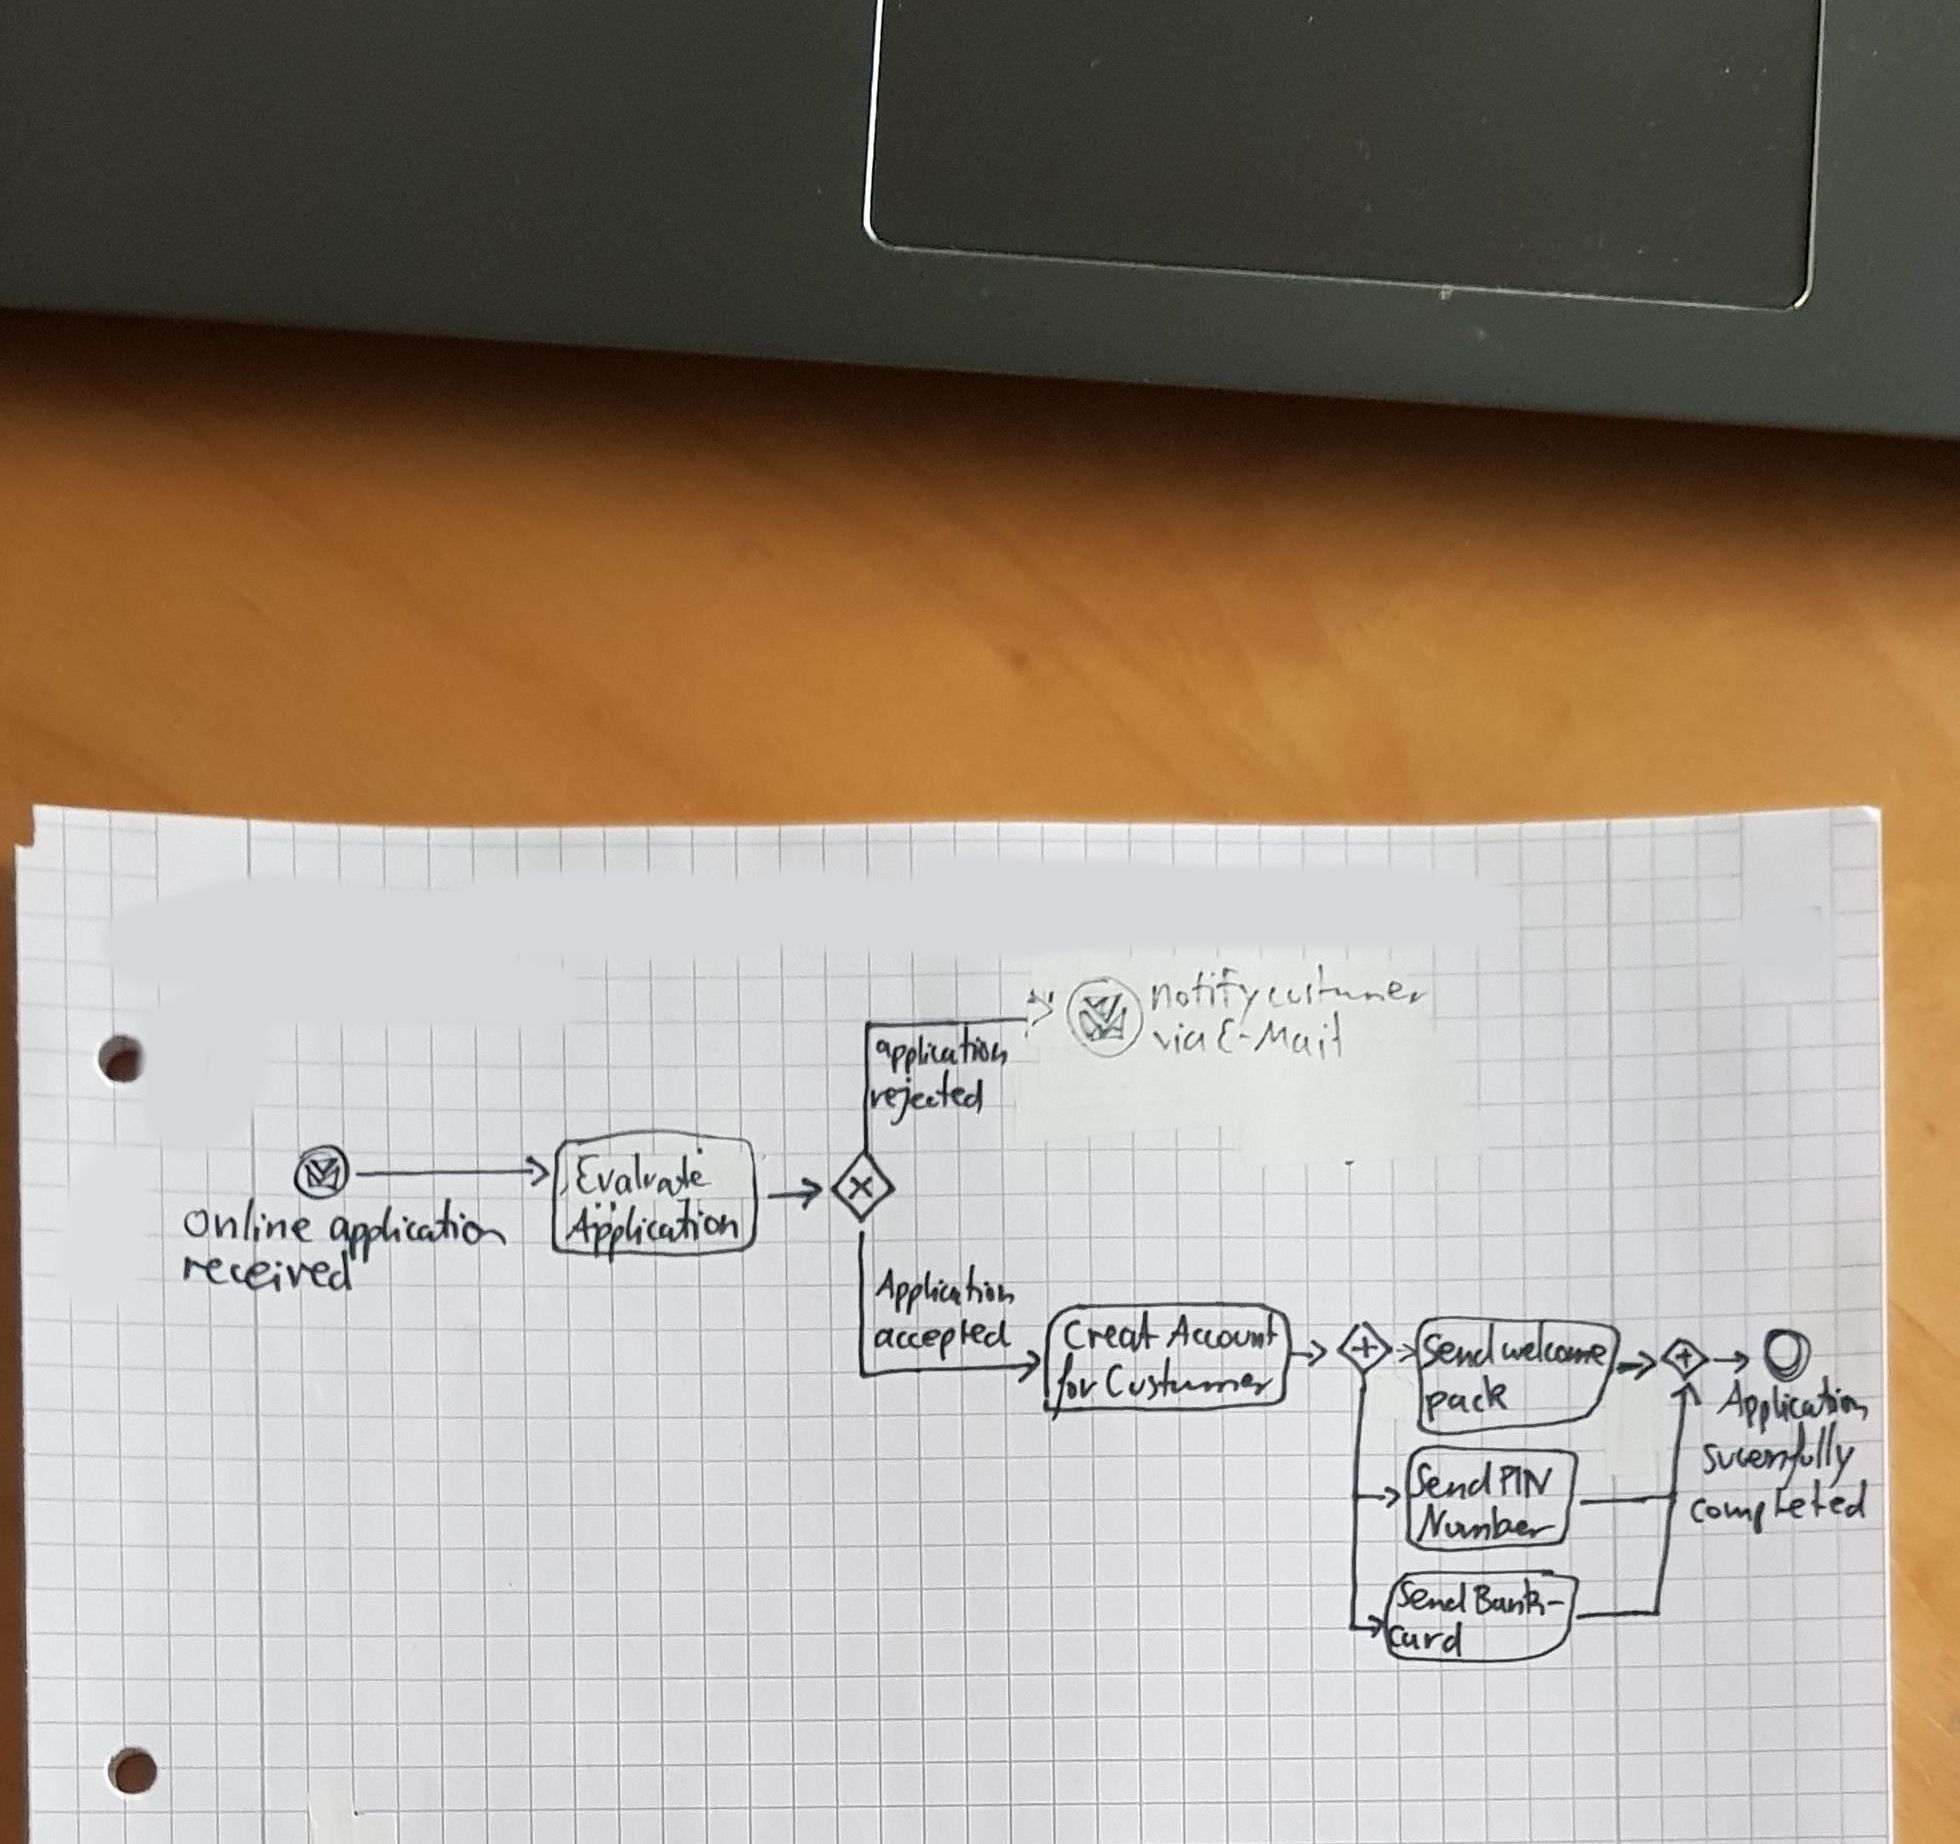Account: (1171, 1307, 1288, 1354)
Application: (568, 1198, 745, 1248), (1714, 1381, 1877, 1430), (873, 1265, 1019, 1314)
Bank-: (1473, 1577, 1568, 1626)
Creat: (1061, 1308, 1163, 1355)
Custumer: (1102, 1355, 1281, 1406)
E-Mail: (1211, 1012, 1352, 1061)
Evaluate: (574, 1146, 711, 1201)
Number: (1414, 1503, 1556, 1549)
PIN: (1496, 1458, 1560, 1499)
Send: (1409, 1456, 1494, 1501)
accepted: (868, 1314, 1017, 1360)
application: (328, 1198, 516, 1251), (872, 1021, 1010, 1076)
card: (1386, 1619, 1468, 1653)
completed: (1683, 1482, 1872, 1534)
costumer: (1262, 967, 1426, 1014)
for: (1045, 1352, 1099, 1419)
notify: (1145, 965, 1263, 1021)
online: (180, 1198, 317, 1250)
pack: (1419, 1373, 1511, 1425)
received: (178, 1250, 352, 1296)
rejected: (865, 1073, 993, 1127)
send: (1423, 1322, 1499, 1373), (1393, 1577, 1470, 1620)
sucessfully: (1690, 1419, 1880, 1489)
via: (1151, 1017, 1211, 1062)
welcome: (1501, 1321, 1608, 1373)
